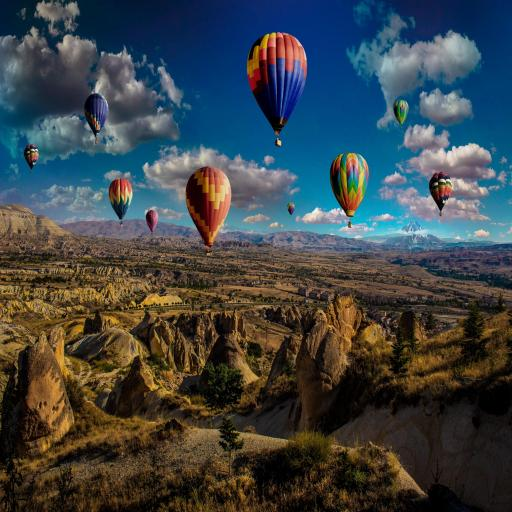hot air ballon: (248, 30, 307, 148), (186, 166, 231, 256), (330, 152, 369, 228), (84, 94, 108, 144), (109, 179, 133, 226), (429, 172, 452, 216), (393, 100, 409, 129), (24, 145, 39, 173), (146, 210, 158, 234), (287, 203, 295, 217)
